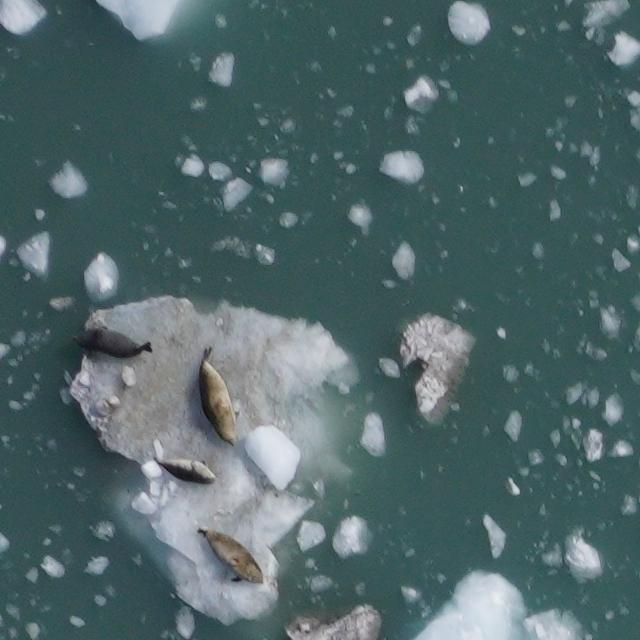seal: (193, 343, 243, 451), (193, 522, 269, 589), (65, 318, 159, 368), (147, 449, 222, 490)
